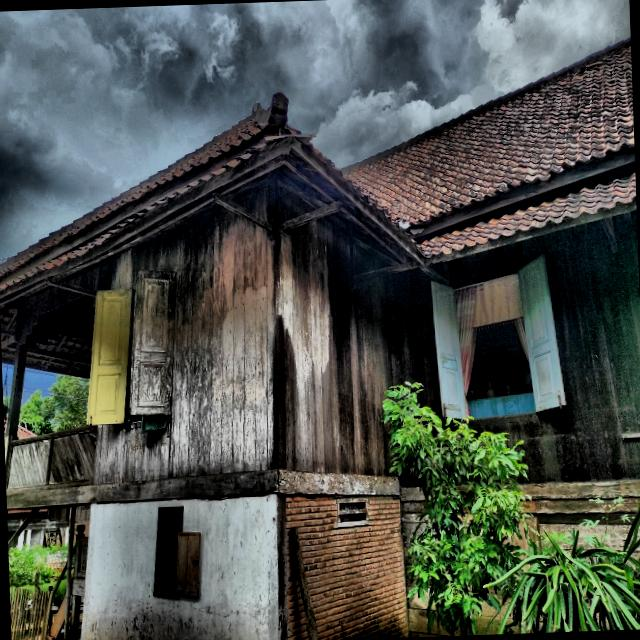roof: (0, 37, 636, 378)
wall: (79, 187, 640, 640)
window: (431, 253, 565, 419), (86, 270, 175, 425), (153, 507, 200, 599)
